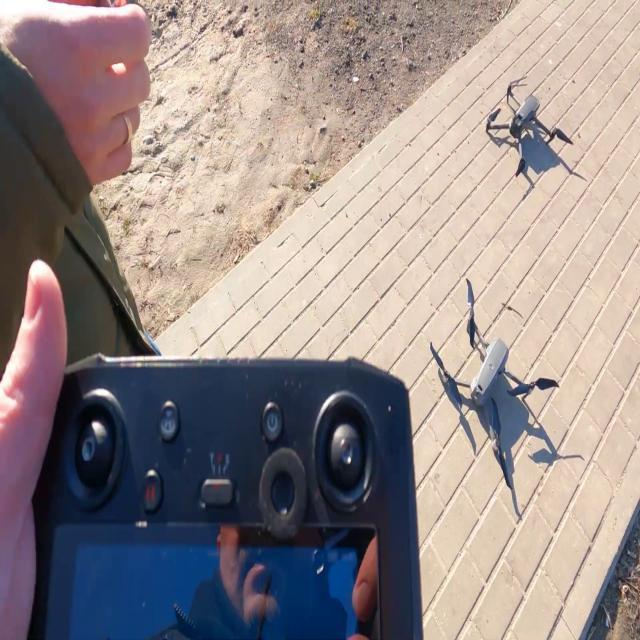Drons: (424, 269, 560, 494), (482, 74, 572, 180)
